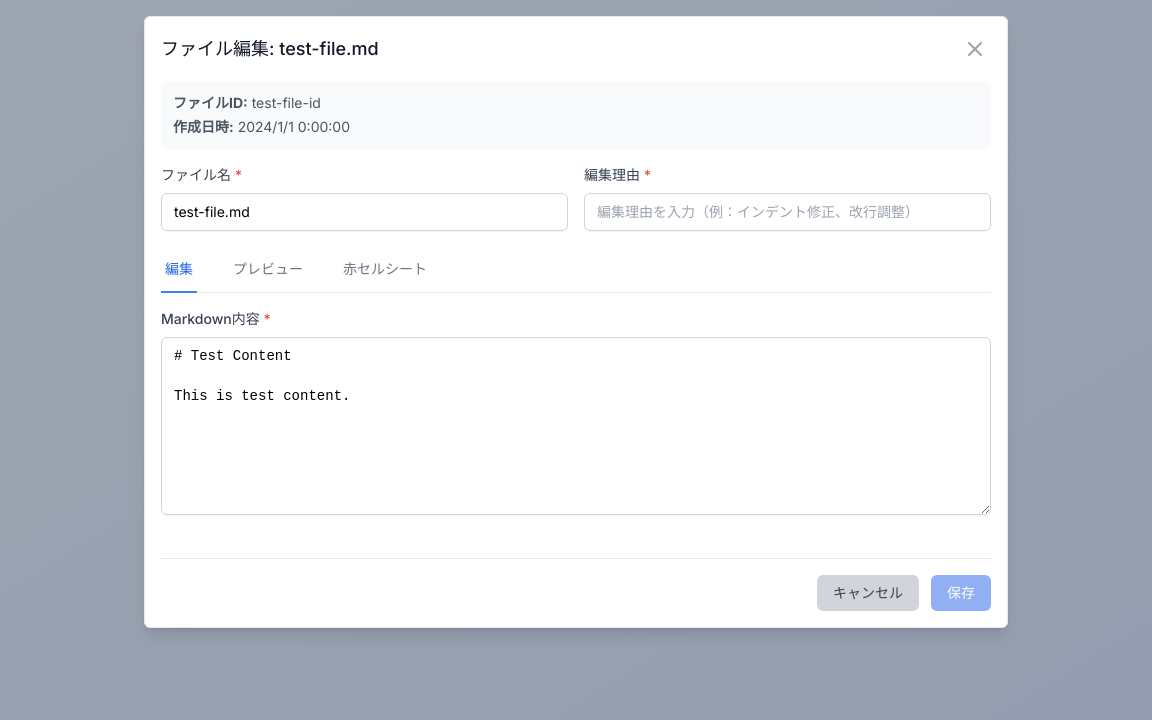
Test: FileEditModal › 赤セルシート設定ボタンをクリックすると設定パネルが表示される
The image size is (1152, 720).
# 赤セルシートタブをクリック
Click the button with test id "redacted-tab".
click(385, 270)  # box [339,247,431,293]
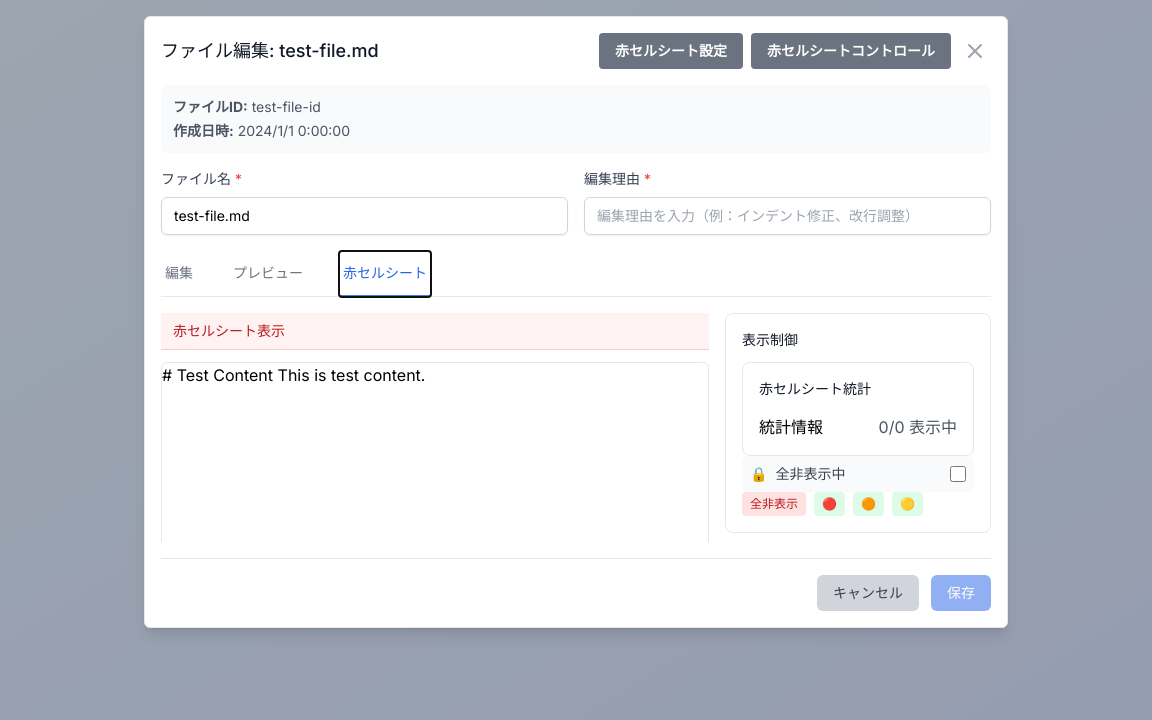
# 設定ボタンをクリック
Click the button with test id "redaction-settings-button".
click(671, 51)  # box [599,33,743,69]
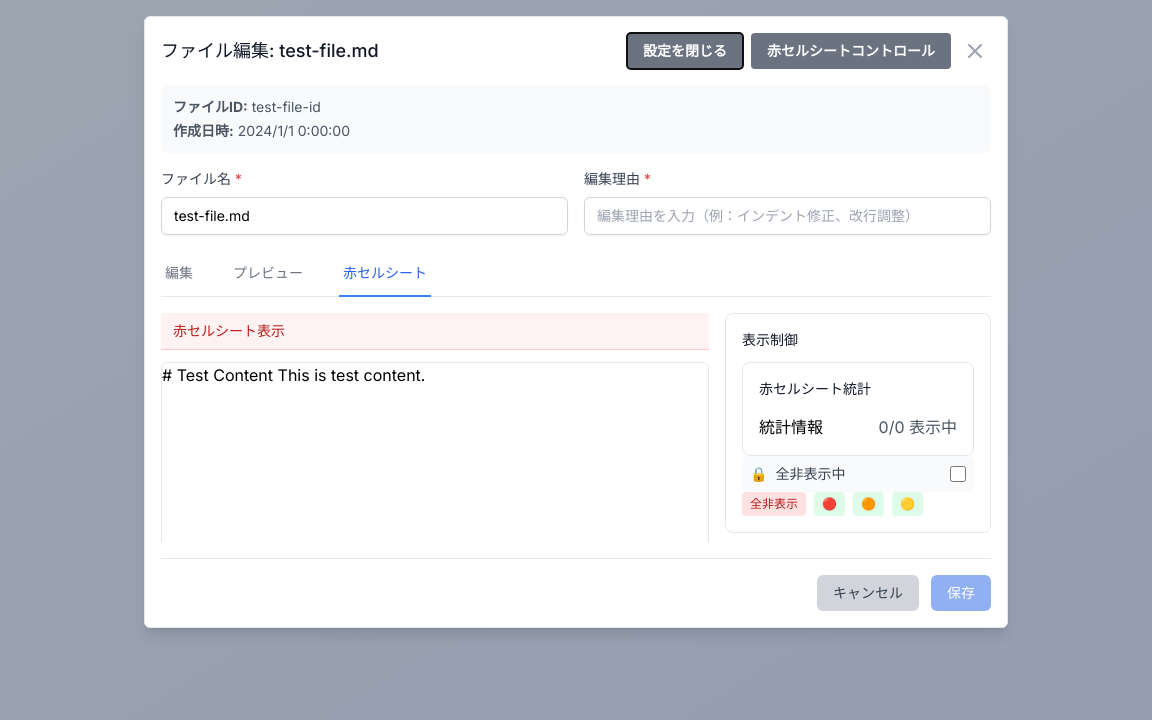
Expected: the button "設定を閉じる" is shown, [627,33,743,69]
